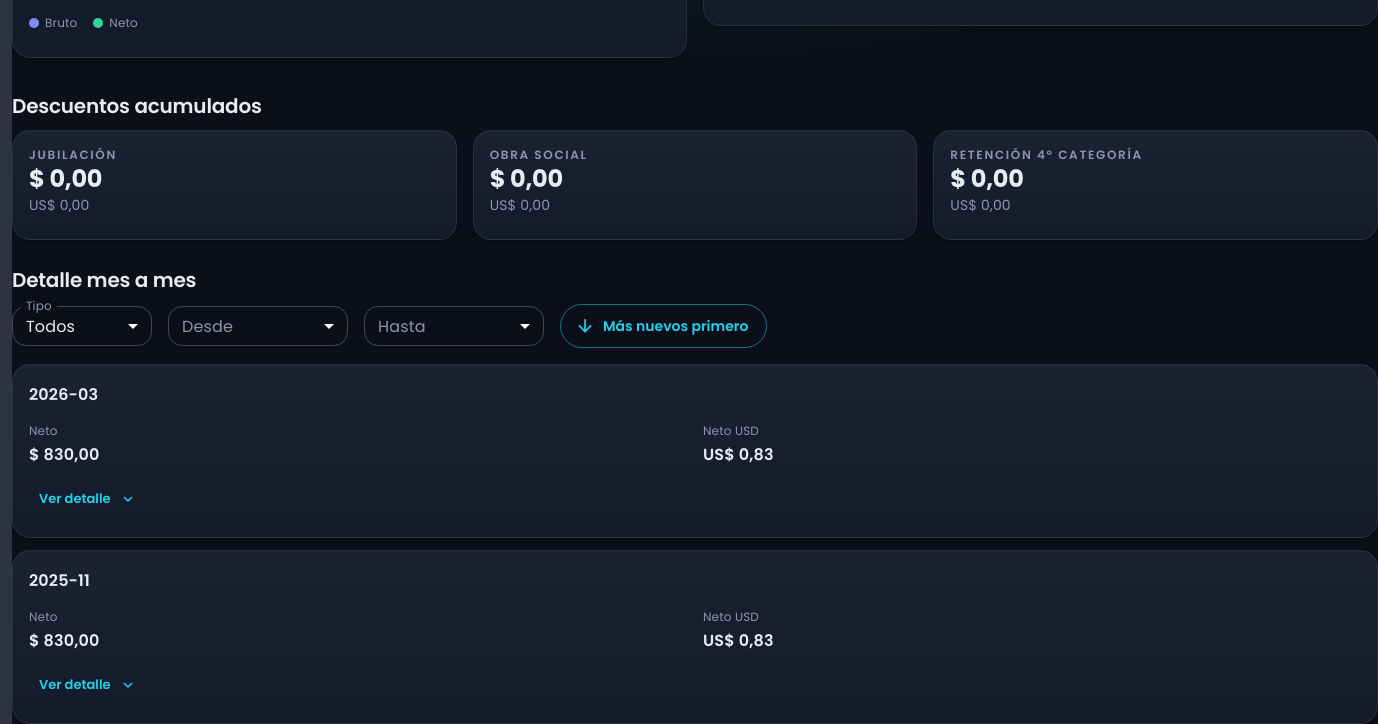
PayslipsPage en mobile › muestra el detalle mes a mes como tarjetas, sin tabla
(page scrolled)
Expected: the 1st text "Neto USD" is shown, [703,422,759,439]
Click the 1st button "Ver detalle": (87, 499) [21,477,153,521]
(page scrolled)
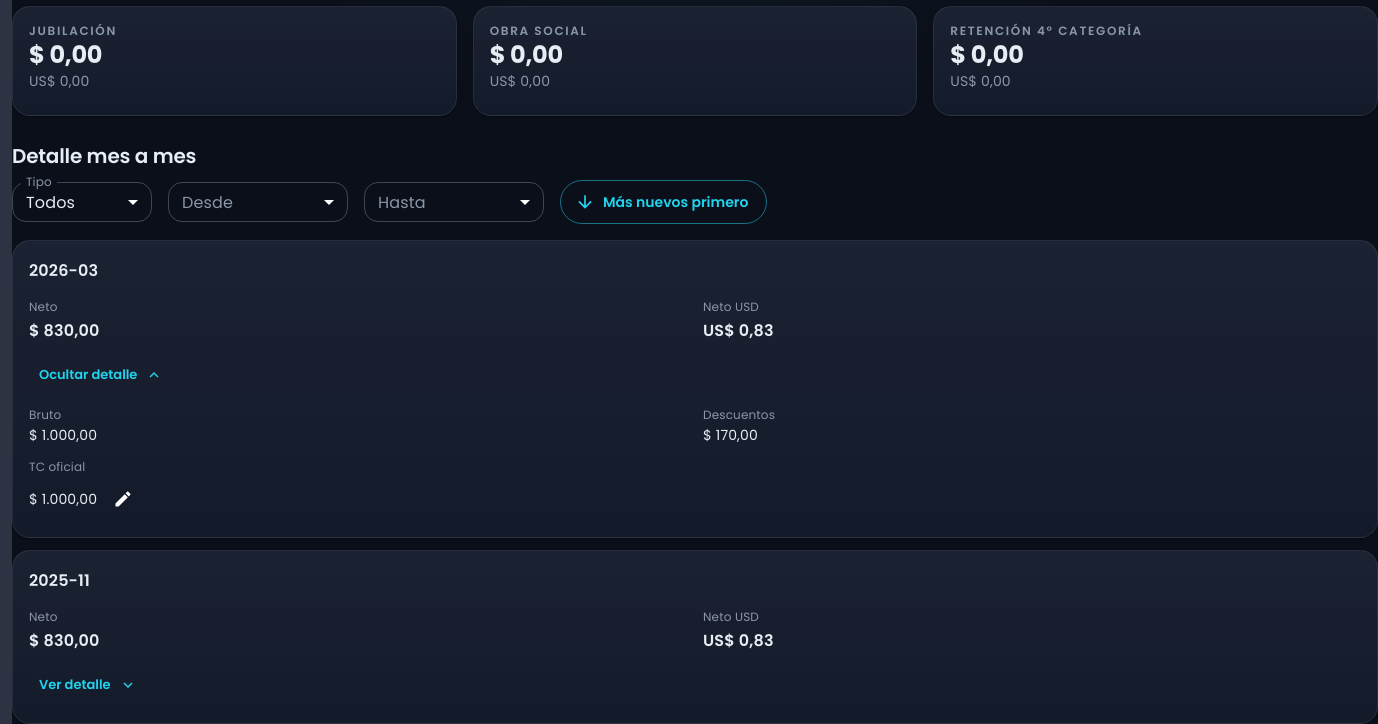
Expected: the element "2025-11" is shown, [12,550,1377,723]
Expected: the text "Bruto" is shown, [29,406,61,423]
Expected: the text "Descuentos" is shown, [703,406,775,423]
